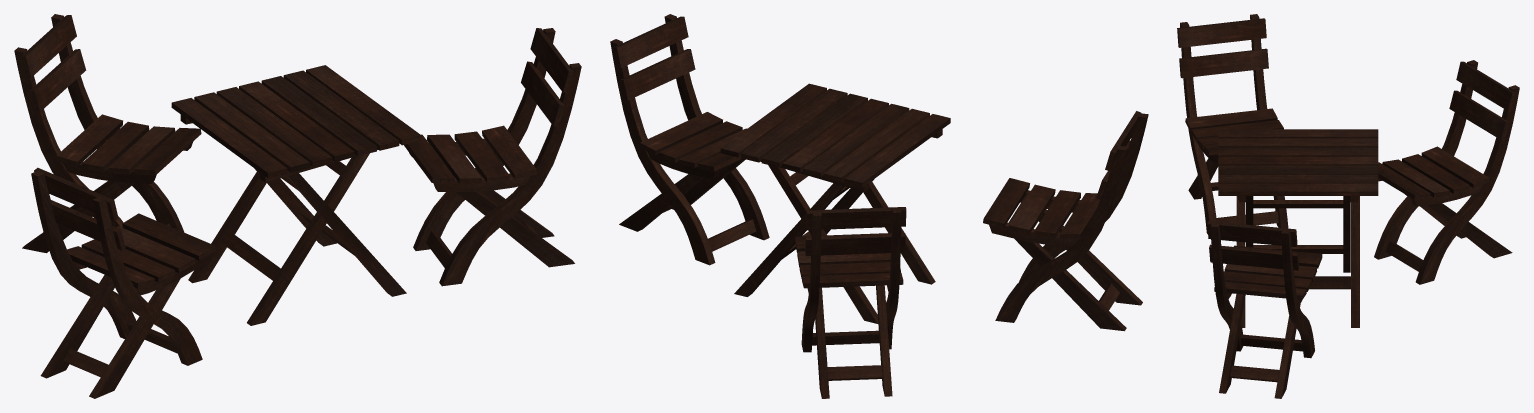
Rendered from OUTDOOR TABLE 2.fbx.
The picture shows the model from 3 angles, left to right: view 1: azimuth 30°, elevation 25°; view 2: azimuth 150°, elevation 25°; view 3: azimuth 270°, elevation 25°; orthographic projection. The views are drawn at different scales.
Parts seen in each view (by area): view 1: OUTDOOR TABLE 2; view 2: OUTDOOR TABLE 2; view 3: OUTDOOR TABLE 2.
Part boxes in pixels (box(x1,y1,x2,y2)): OUTDOOR TABLE 2: box(14, 14, 581, 398); OUTDOOR TABLE 2: box(610, 14, 1148, 398); OUTDOOR TABLE 2: box(1177, 14, 1519, 398).
Size of the model in its own units: 330 by 117 by 218.
